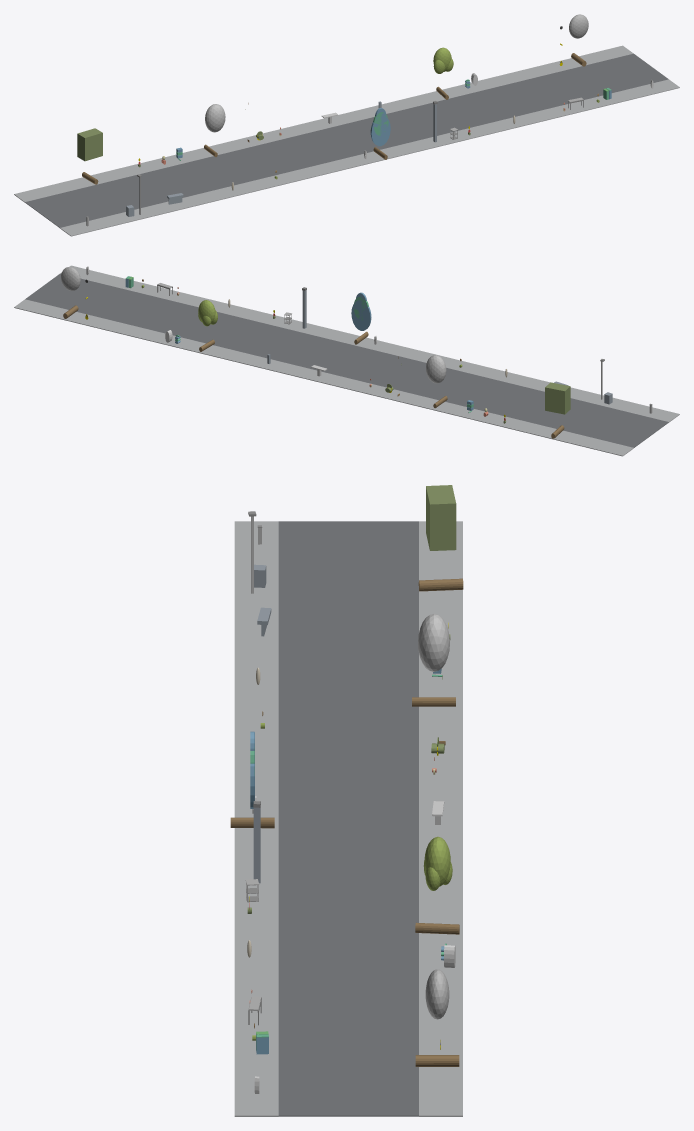
3 renders of one model, top to bottom at view 1: azimuth 30°, elevation 25°; view 2: azimuth 150°, elevation 25°; view 3: azimuth 270°, elevation 25°, orthographic. The views are drawn at different scales.
Visible parts, largest first — view 1: road_slab, sidewalk_left, sidewalk_right, inst_0012, inst_0014, inst_0013, inst_0015, inst_0016; view 2: road_slab, sidewalk_right, sidewalk_left, inst_0012, inst_0014, inst_0013, inst_0015, inst_0016; view 3: road_slab, sidewalk_left, sidewalk_right, inst_0012, inst_0013, inst_0015, inst_0016.
Boxes of the visible parts, left/top/right/bottom form: road_slab: left=25, top=53, right=668, bottom=227; sidewalk_left: left=60, top=79, right=679, bottom=236; sidewalk_right: left=14, top=45, right=633, bottom=202; inst_0012: left=77, top=128, right=102, bottom=184; inst_0014: left=370, top=108, right=390, bottom=159; inst_0013: left=204, top=104, right=225, bottom=156; inst_0015: left=433, top=47, right=453, bottom=99; inst_0016: left=569, top=14, right=588, bottom=66; road_slab: left=25, top=273, right=668, bottom=447; sidewalk_right: left=14, top=299, right=633, bottom=456; sidewalk_left: left=60, top=265, right=679, bottom=422; inst_0012: left=545, top=382, right=570, bottom=438; inst_0014: left=351, top=292, right=371, bottom=344; inst_0013: left=426, top=355, right=447, bottom=408; inst_0015: left=198, top=300, right=217, bottom=351; inst_0016: left=61, top=266, right=80, bottom=318; road_slab: left=278, top=521, right=418, bottom=1116; sidewalk_left: left=234, top=521, right=278, bottom=1116; sidewalk_right: left=419, top=521, right=462, bottom=1116; inst_0012: left=418, top=485, right=463, bottom=591; inst_0013: left=412, top=614, right=455, bottom=706; inst_0015: left=415, top=836, right=459, bottom=934; inst_0016: left=415, top=969, right=459, bottom=1066.
Bounding box in the file's own units: 80 × 6.08 × 13.24.
